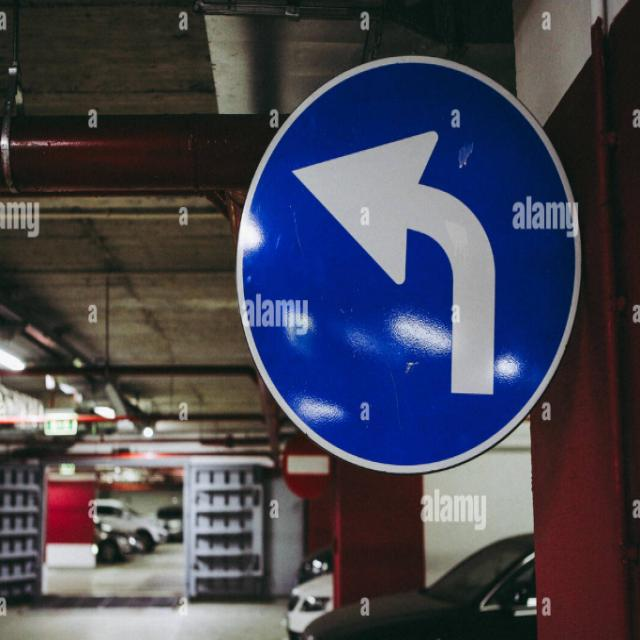LEFT: (237, 56, 580, 472)
